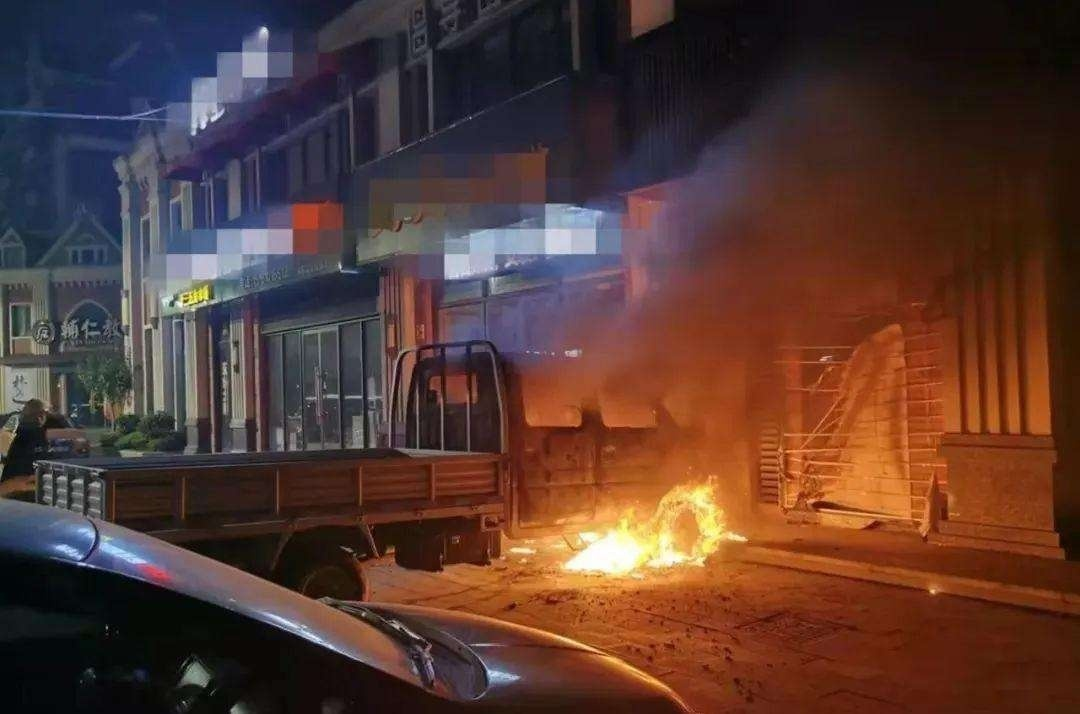fire: (557, 476, 733, 576)
